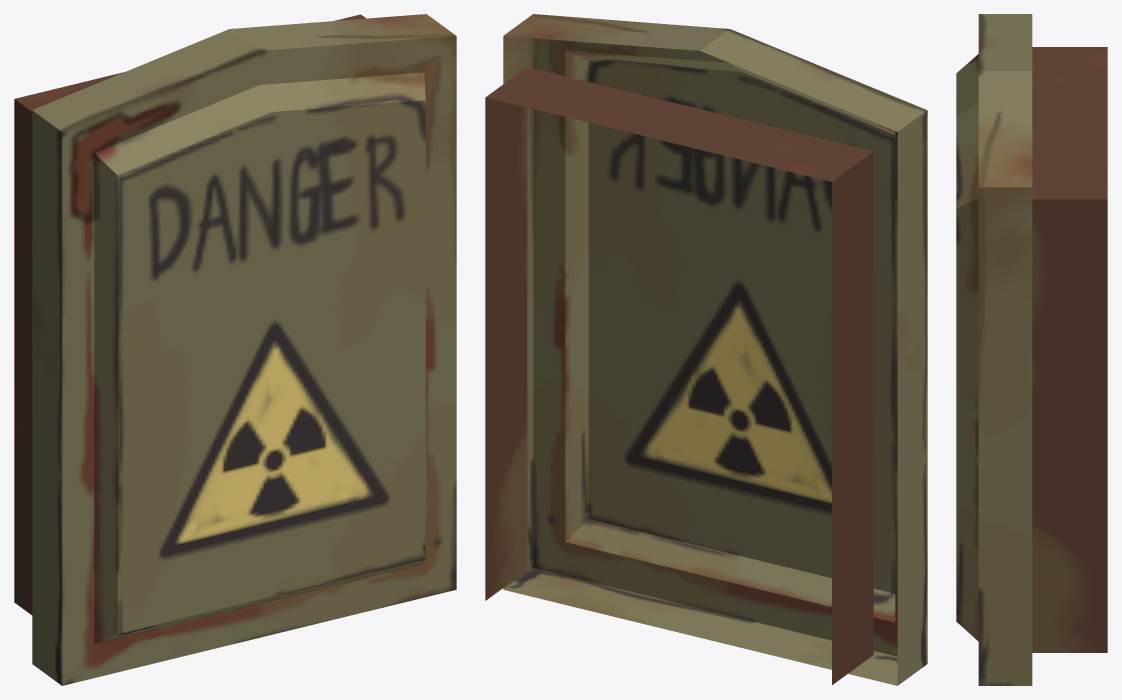
File: WallDeco_Danger.fbx
3 renders of one model, left to right at view 1: azimuth 30°, elevation 25°; view 2: azimuth 150°, elevation 25°; view 3: azimuth 270°, elevation 25°, orthographic. The views are drawn at different scales.
Visible parts, largest first — view 1: Danger; view 2: Danger; view 3: Danger.
Part boxes in pixels (x1,y1,x2,y2): Danger: (14, 14, 456, 685); Danger: (485, 14, 927, 685); Danger: (956, 14, 1107, 685).
Bounding box in the file's own units: 228 × 324 × 84.
